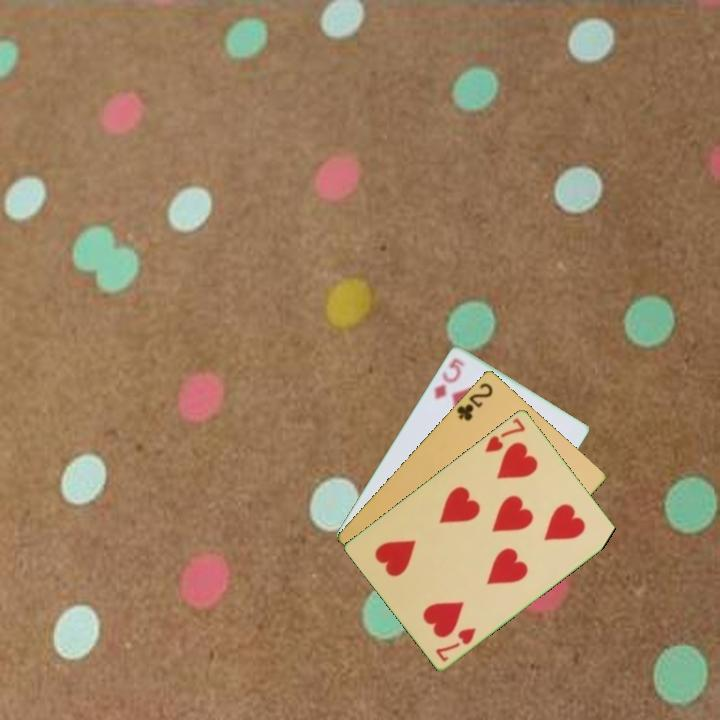2c: (453, 379, 496, 424)
5d: (430, 354, 468, 402)
7h: (481, 414, 528, 455), (432, 623, 479, 664)
